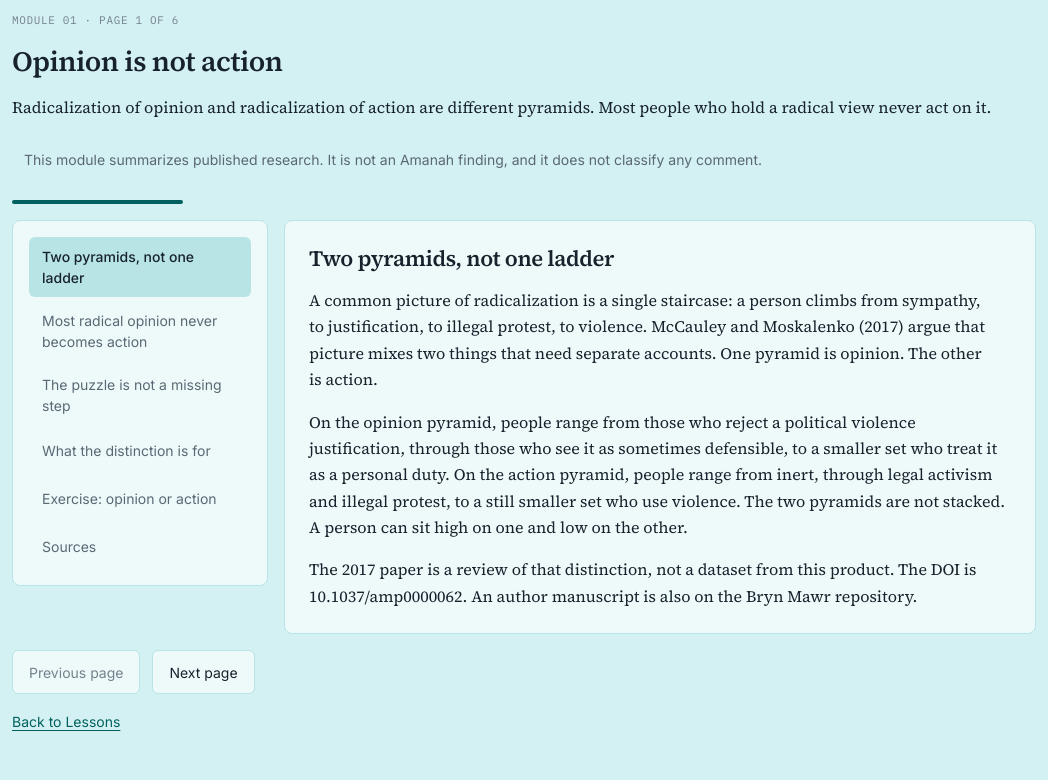
Test: LessonReaderPage › shows the thesis and a Sources chapter with outbound citations
Expected: the text "This module summarizes published research" is shown, x1=24 y1=152 x2=762 y2=168
Expected: the text "Radicalization of opinion and radicalization of action are different pyramids" is shown, x1=12 y1=96 x2=991 y2=118
Step 1. Click the button "Sources" → (140, 547), box x1=29 y1=525 x2=251 y2=569
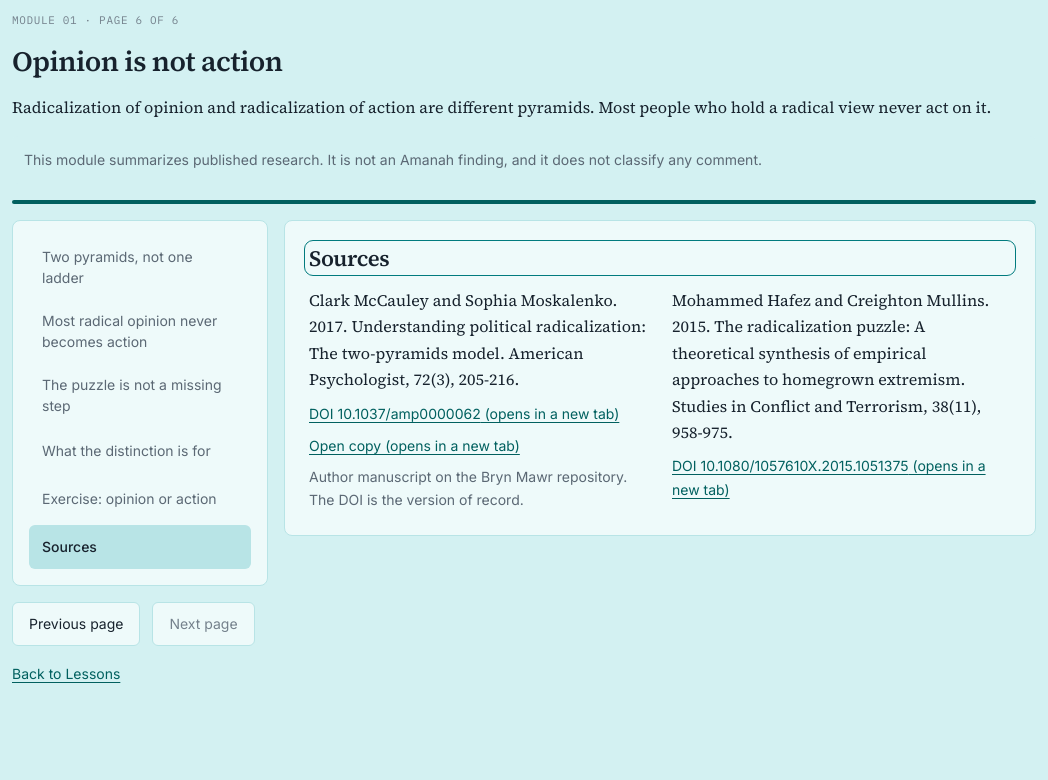
Now the heading "Sources" is shown, box x1=309 y1=243 x2=389 y2=273
